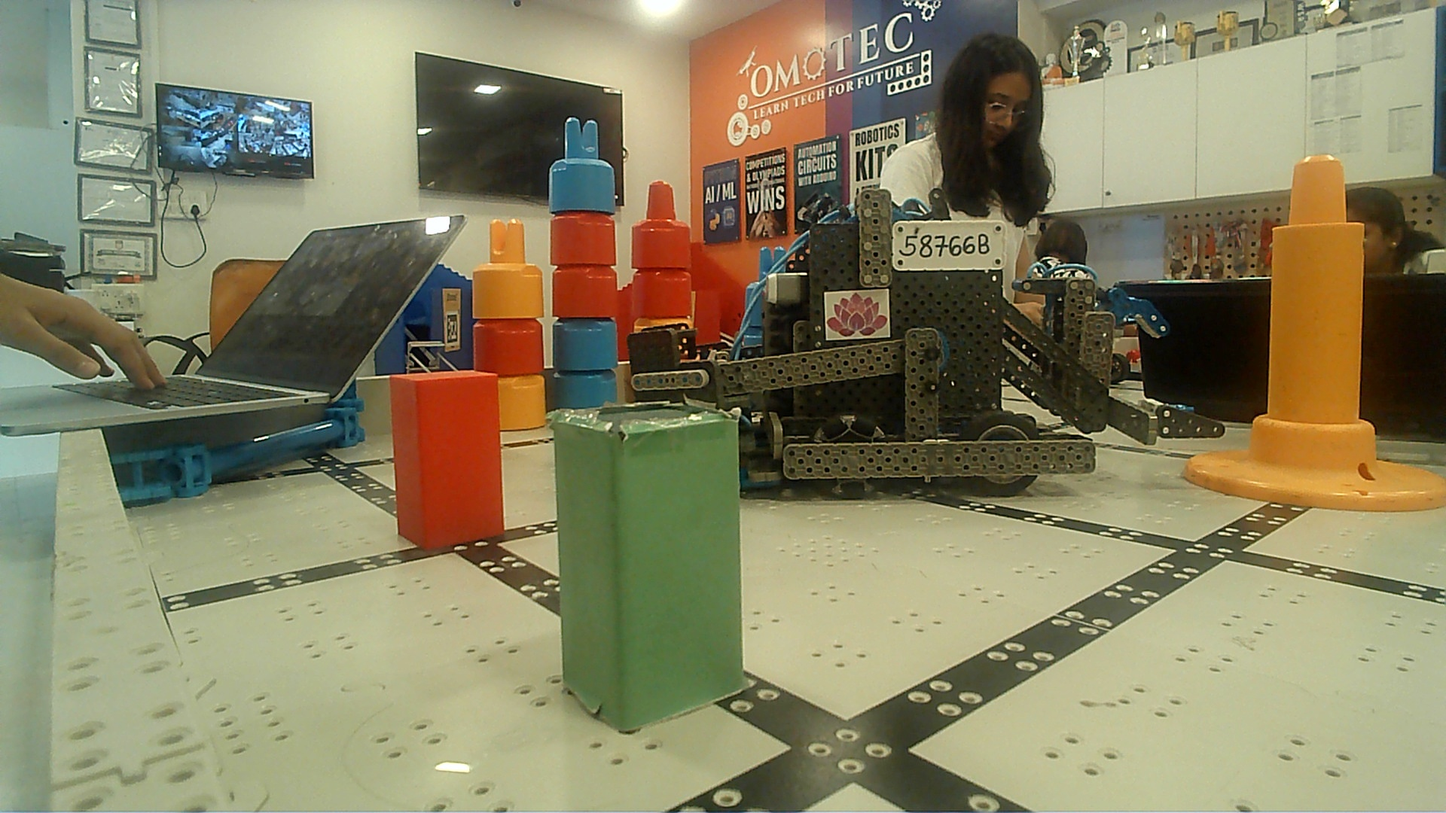red: (386, 343, 515, 568)
